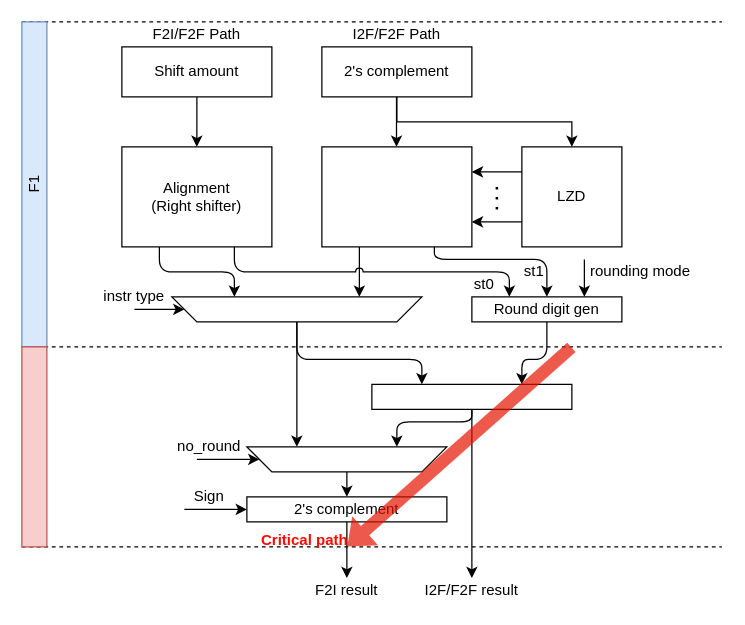
This 745x625 diagram has some shape labels left out. Here are the shapes that lost their labels. From the top down, the centre of each, then its label:
At point (396, 196): "Normaliztaion (Left shifter)".
At point (471, 396): "54-bit adder".
At point (34, 446): "F2".
